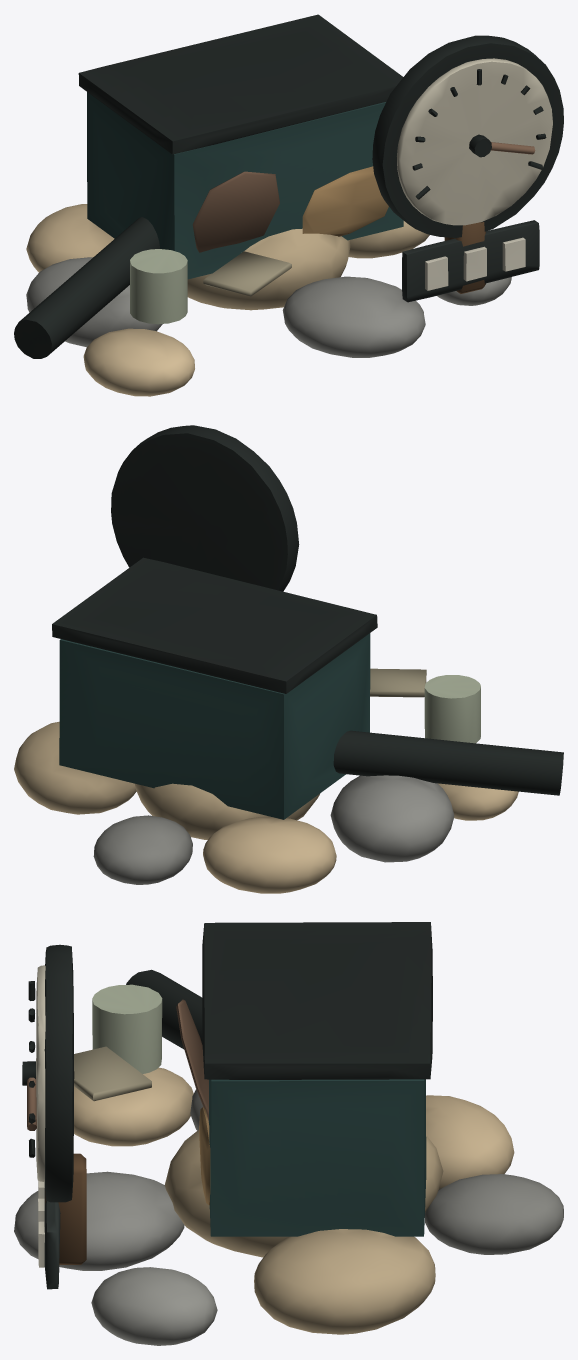
Rendered from storm_station_c_lod1.glb.
The picture shows the model from 3 angles, top to bottom: view 1: azimuth 30°, elevation 25°; view 2: azimuth 150°, elevation 25°; view 3: azimuth 270°, elevation 25°; orthographic projection. The views are drawn at different scales.
Parts seen in each view (by area): view 1: Surface.001; view 2: Surface.001; view 3: Surface.001.
Part boxes in pixels (bbox=[...]): Surface.001: bbox=[14, 14, 563, 396]; Surface.001: bbox=[14, 425, 563, 893]; Surface.001: bbox=[14, 922, 563, 1345].
Bounding box in the file's own units: 5.17 × 2.93 × 4.04.
